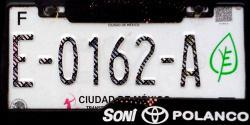Number plate: (3, 2, 249, 123)
